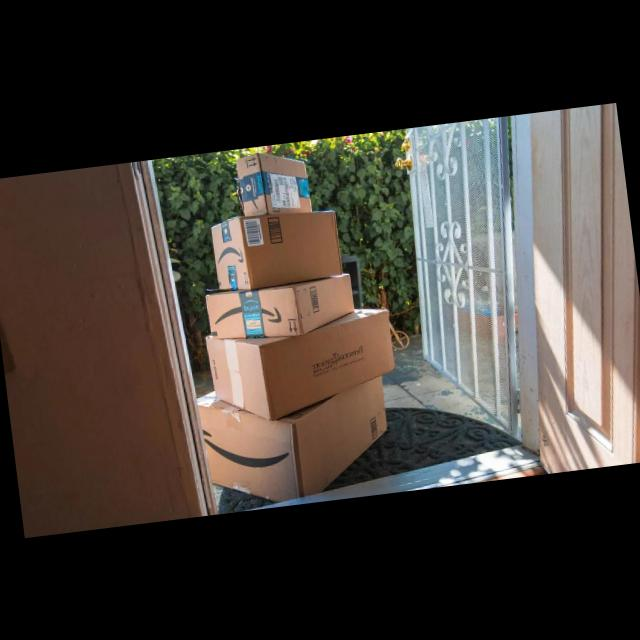box: (188, 369, 394, 516), (197, 304, 400, 430), (209, 205, 343, 293), (202, 273, 356, 349), (234, 147, 312, 220)
